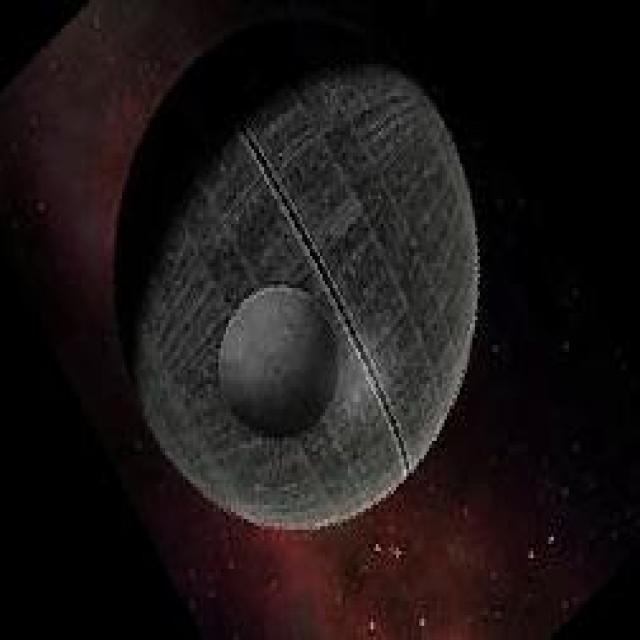Death Star: (117, 39, 485, 533)
